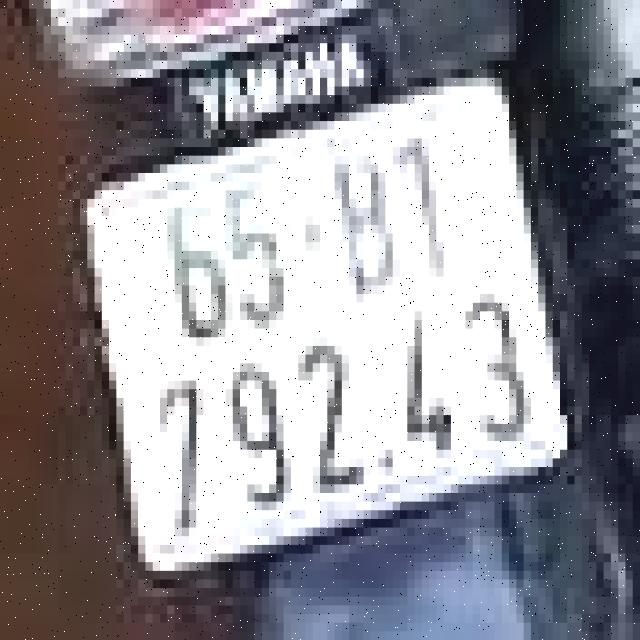1: (388, 126, 467, 288)
2: (284, 327, 379, 502)
3: (450, 280, 543, 448)
4: (374, 298, 470, 472)
5: (221, 168, 299, 338)
6: (153, 186, 245, 358)
7: (140, 366, 239, 537)
9: (216, 352, 300, 515)
B: (320, 137, 410, 302)
